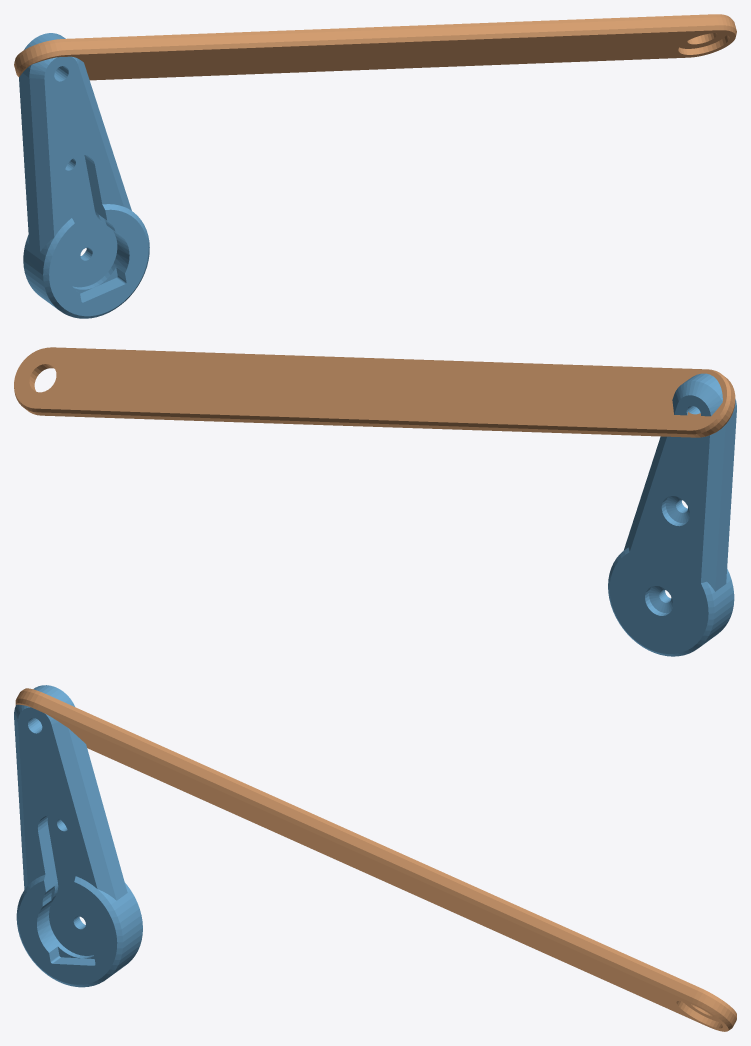
Rendered from leg_solved.glb.
3 renders of one model, top to bottom at view 1: azimuth 30°, elevation 25°; view 2: azimuth 150°, elevation 25°; view 3: azimuth 330°, elevation 25°, orthographic.
Parts seen in each view (by area): view 1: MainLink_Alpha, Arm; view 2: MainLink_Alpha, Arm; view 3: Arm, MainLink_Alpha.
Boxes of the visible parts, box(x1,y1,x2,y2) form: MainLink_Alpha: box(14, 14, 736, 80); Arm: box(19, 33, 149, 318); MainLink_Alpha: box(14, 347, 735, 437); Arm: box(608, 373, 736, 656); Arm: box(14, 685, 142, 987); MainLink_Alpha: box(15, 688, 736, 1031).
Bounding box in the file's own units: 188 × 70.85 × 14.39.
